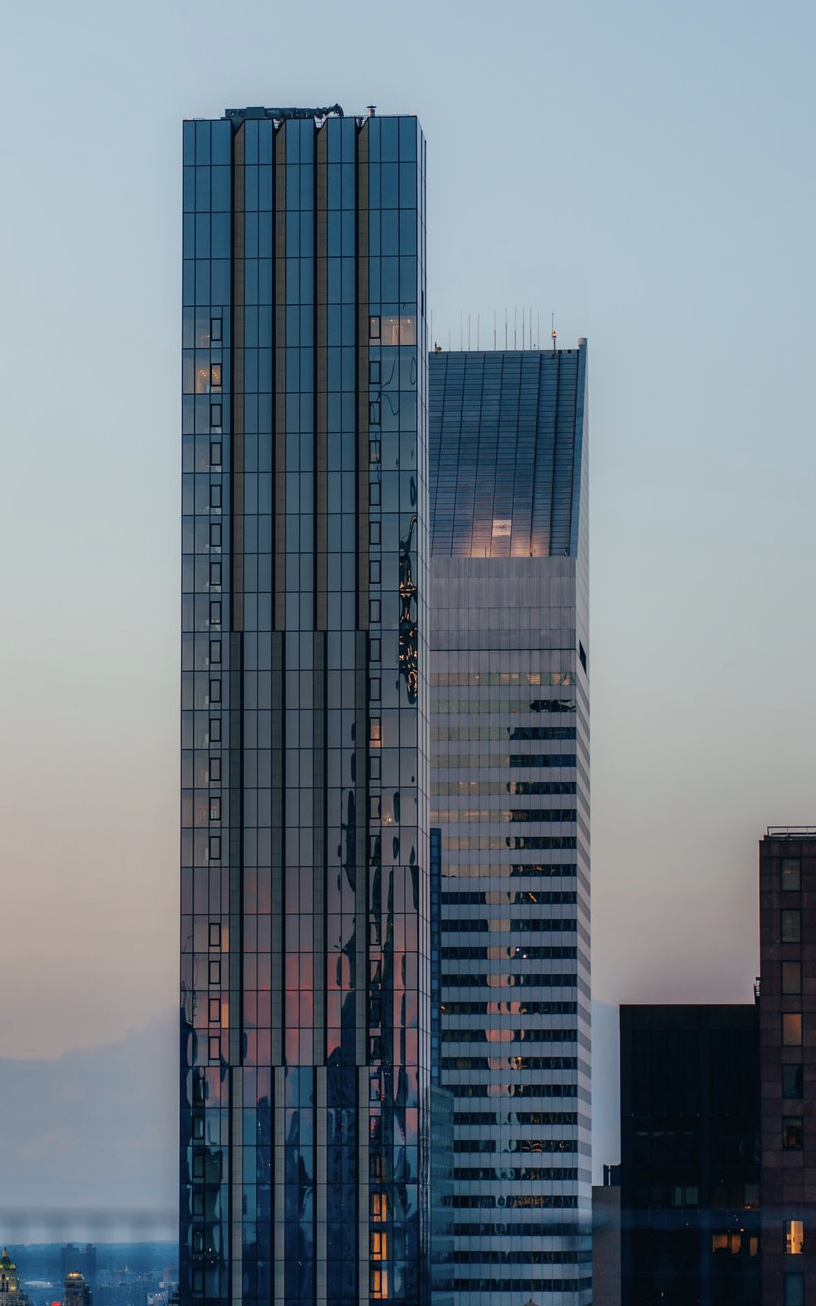Sky Building: (144, 90, 448, 1254), (400, 294, 612, 1265)
